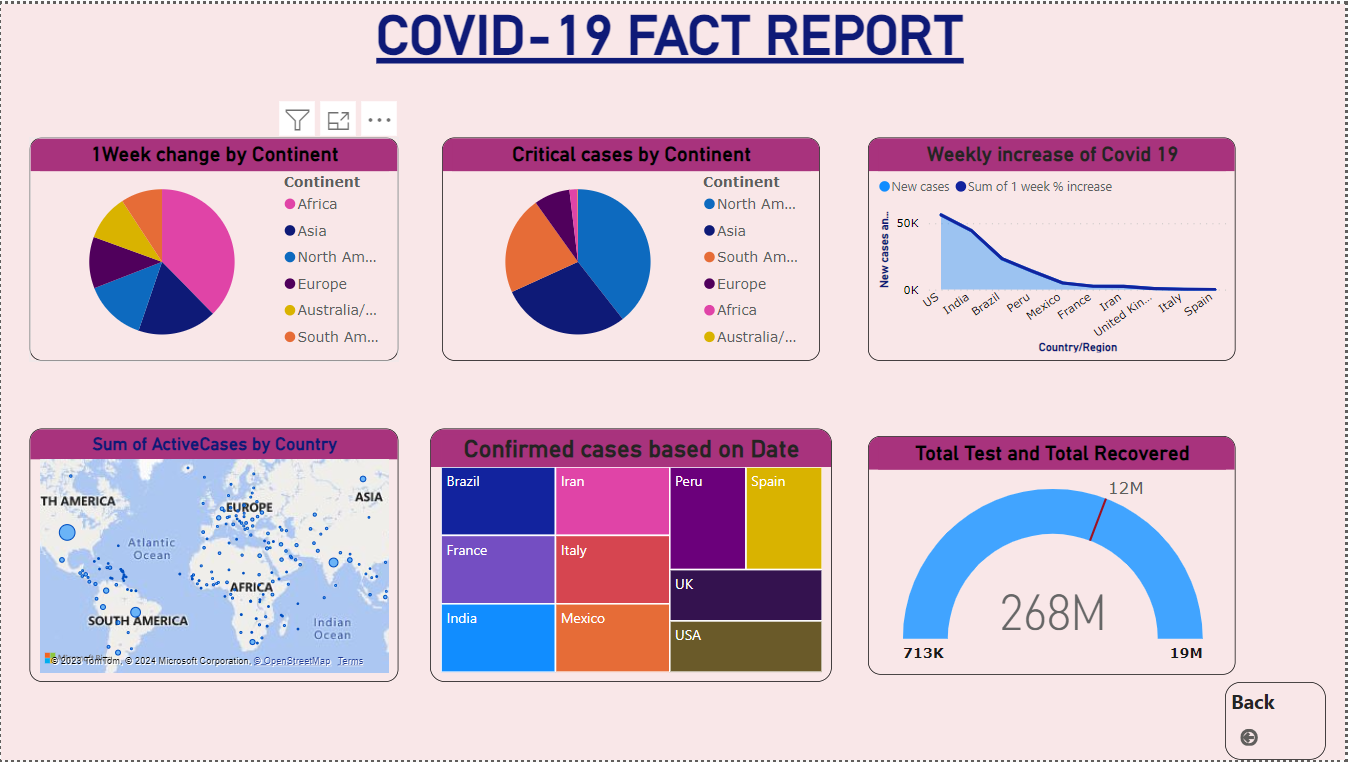

This screenshot's page, from the dashboard's own definition file:
{"tool":"powerbi","page":{"name":"Report-2","canvas":[1280,720],"ordinal":1},"visuals":[{"type":"stackedAreaChart","title":"Weekly  increase of Covid 19","fields":{"Category":["country_wise_latest.Country/Region"],"Y":["Sum(country_wise_latest.New cases)","Sum(country_wise_latest.1 week % increase)"]},"box":[825.7,127.1,350,212.9],"z":6000},{"type":"treemap","title":"Confirmed cases based on Date","fields":{"Group":["worldometer_data.Country/Region"],"Values":["Sum(day_wise.Confirmed)"]},"box":[408.6,404.3,382.9,241.4],"z":12000},{"type":"pieChart","title":"Critical cases by Continent","fields":{"Category":["worldometer_data.Continent"],"Y":["Sum(worldometer_data.Serious,Critical)"]},"box":[420,127.1,360,212.9],"z":13000},{"type":"pieChart","title":"1Week change by Continent","fields":{"Category":["worldometer_data.Continent"],"Y":["Sum(country_wise_latest.1 week % increase)"]},"box":[27.1,127.1,351.4,212.9],"z":14000},{"type":"map","title":"Sum of ActiveCases by Country","fields":{"Category":["worldometer_data.Country/Region"],"Size":["Sum(worldometer_data.ActiveCases)"]},"box":[27.1,404.3,351.4,241.4],"z":16001},{"type":"textbox","title":"COVID-19 FACT REPORT","box":[0,0,1274.3,60],"z":16002},{"type":"gauge","title":"Total Test and Total Recovered","fields":{"Y":["Sum(worldometer_data.TotalTests)"],"MinValue":["Sum(worldometer_data.TotalDeaths)"],"MaxValue":["Sum(worldometer_data.TotalCases)"],"TargetValue":["Sum(worldometer_data.TotalRecovered)"]},"box":[825.7,411.4,350,227.1],"z":16003},{"type":"actionButton","title":"Back","box":[1165.7,645.7,95.7,74.3],"z":16004}]}

Visuals, with their boxes in screenshot pixels (x1, y1, x2, y2), scaled from the page's 1280x720 canvas onto the 1348x762 screenshot:
"Weekly  increase of Covid 19" stackedAreaChart: <bbox>870, 135, 1238, 360</bbox>
"Confirmed cases based on Date" treemap: <bbox>430, 428, 834, 683</bbox>
"Critical cases by Continent" pieChart: <bbox>442, 135, 821, 360</bbox>
"1Week change by Continent" pieChart: <bbox>29, 135, 399, 360</bbox>
"Sum of ActiveCases by Country" map: <bbox>29, 428, 399, 683</bbox>
"COVID-19 FACT REPORT" textbox: <bbox>0, 0, 1342, 64</bbox>
"Total Test and Total Recovered" gauge: <bbox>870, 435, 1238, 676</bbox>
"Back" actionButton: <bbox>1228, 683, 1328, 761</bbox>
